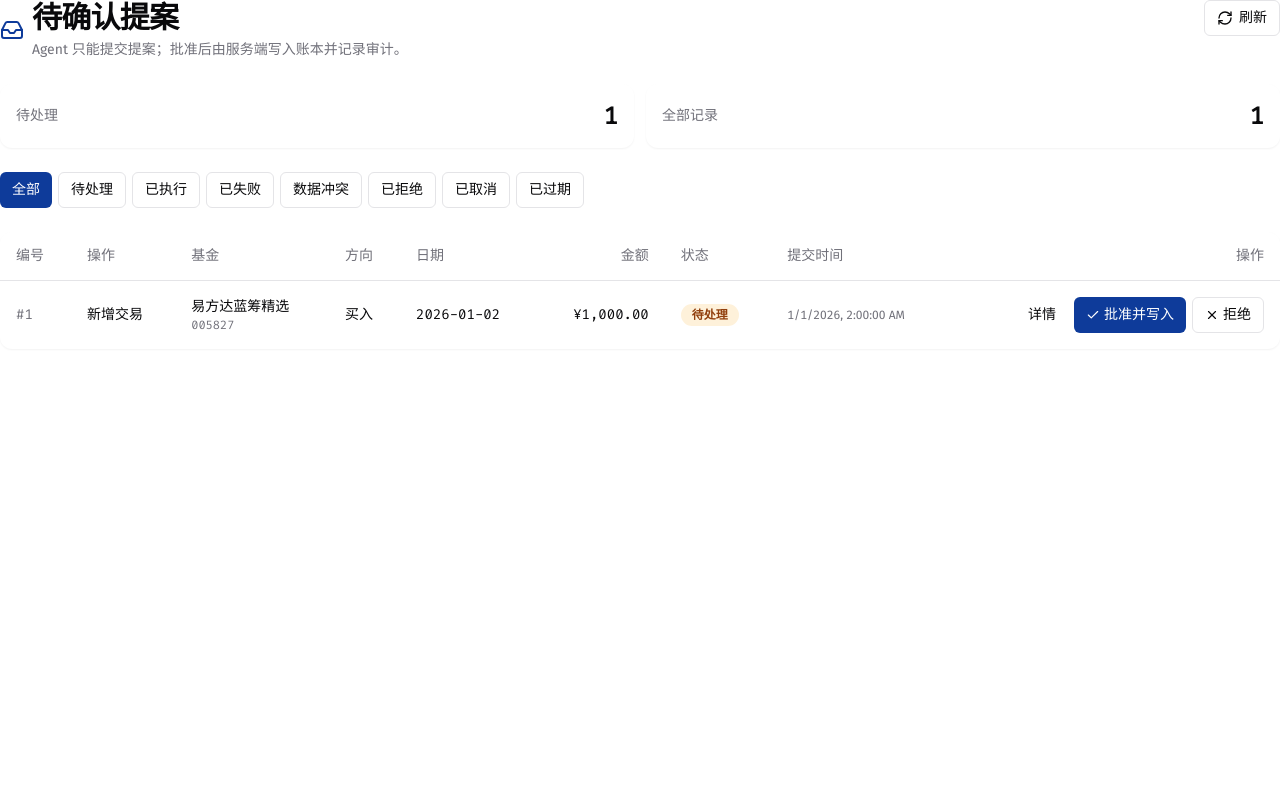
Proposals › 审批失败后刷新列表并关闭确认框
This screenshot has width=1280, height=800.
Click the button "批准并写入" at x=1130, y=314, box [1074,296,1186,332]
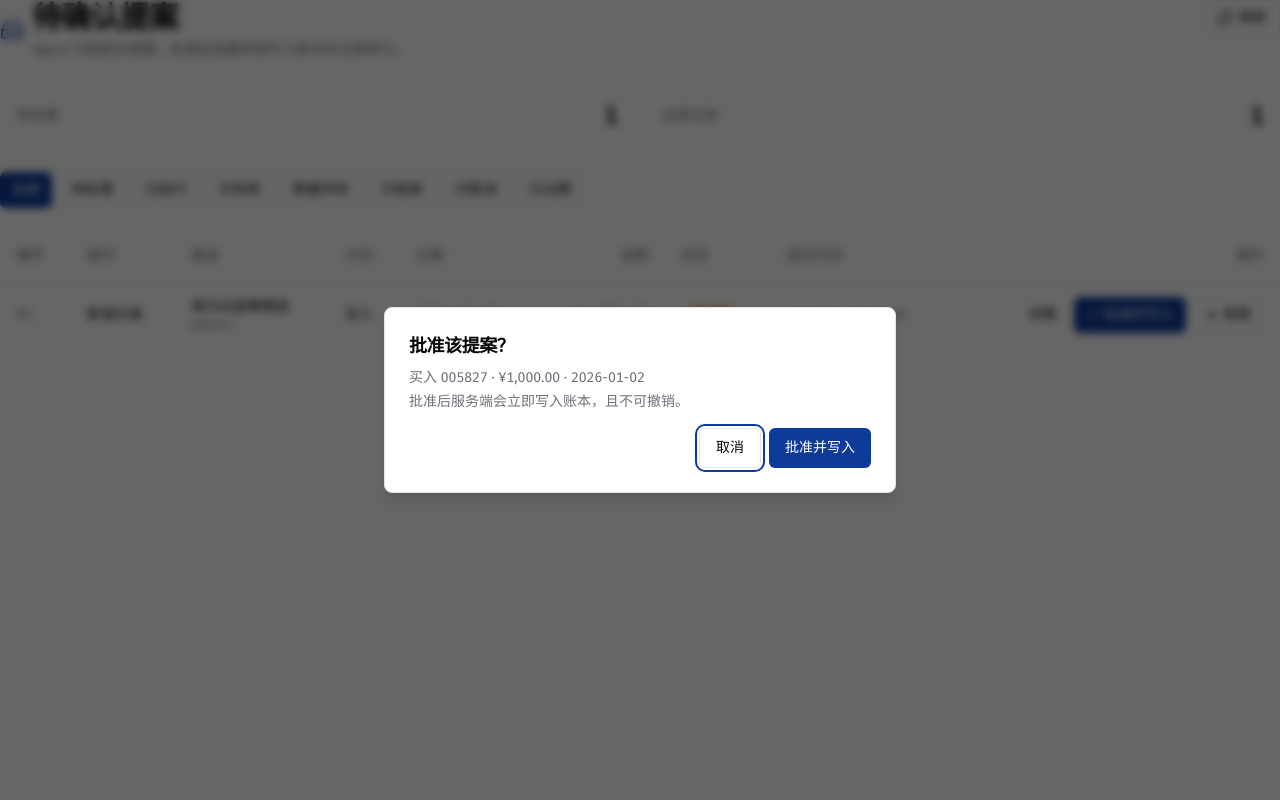
Click the button "批准并写入" at x=820, y=448, box [769,428,871,468]
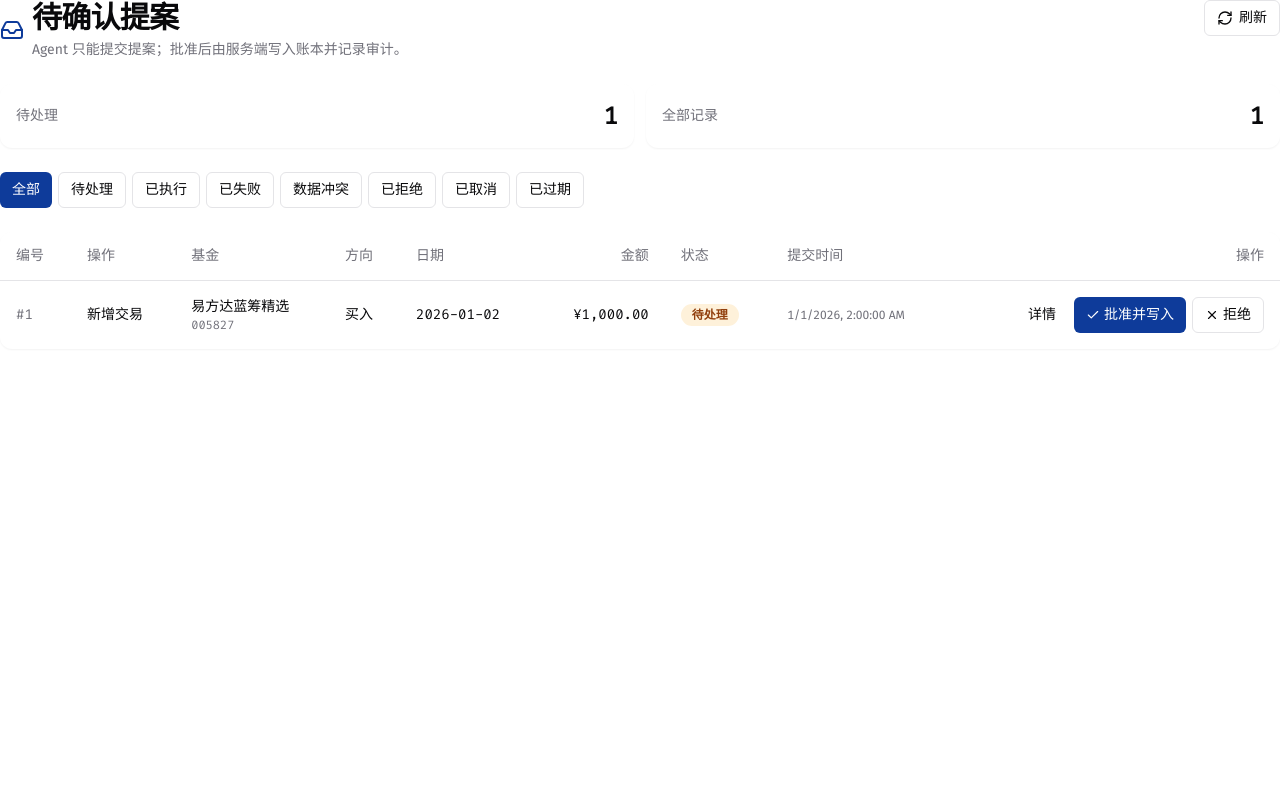
Now the dialog is gone
